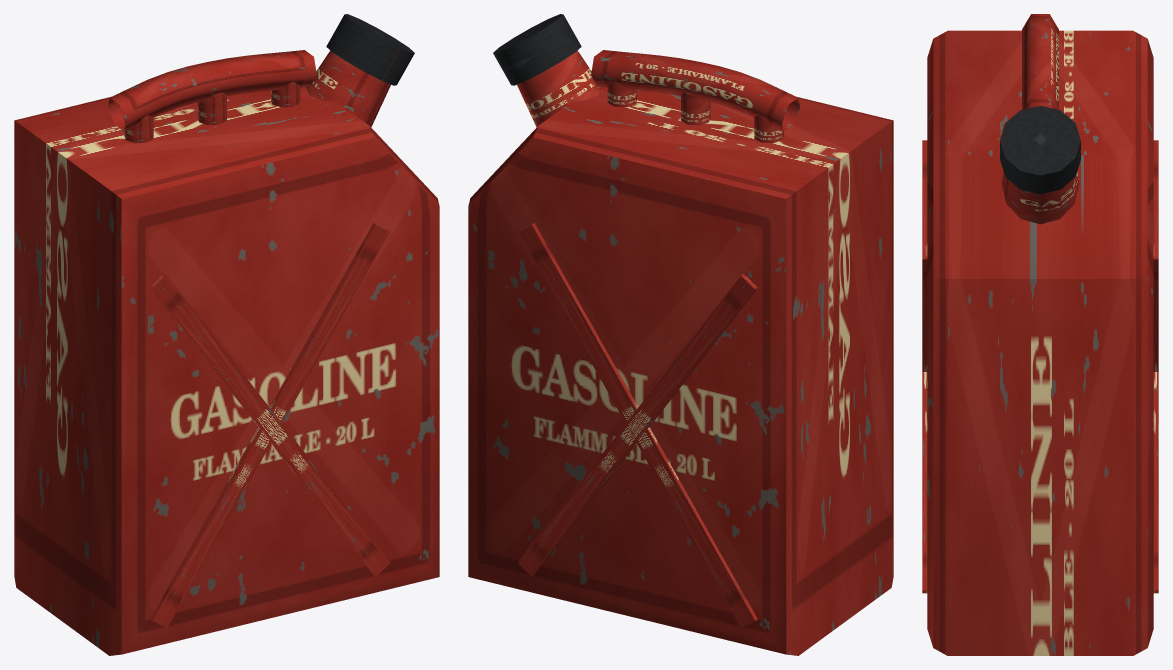
The model's file is gas.obj.
3 views of the same model, side by side, from view 1: azimuth 30°, elevation 25°; view 2: azimuth 150°, elevation 25°; view 3: azimuth 270°, elevation 25° (orthographic).
Visible parts, largest first — view 1: gas_0_surface; view 2: gas_0_surface; view 3: gas_0_surface.
Boxes of the visible parts, box(x1,y1,x2,y2) form: gas_0_surface: box(14, 14, 439, 655); gas_0_surface: box(468, 14, 893, 655); gas_0_surface: box(922, 14, 1158, 655).
Size of the model in its own units: 0.236 by 0.3466 by 0.14.
Materials: 1 (1 with a texture image).
